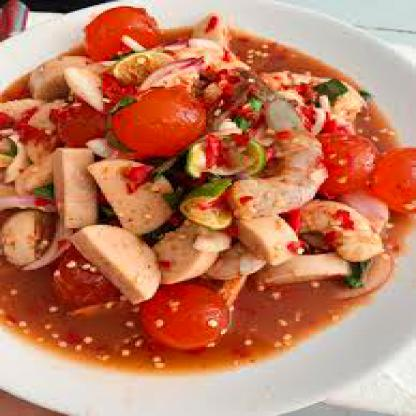Yum: (0, 10, 403, 384)
